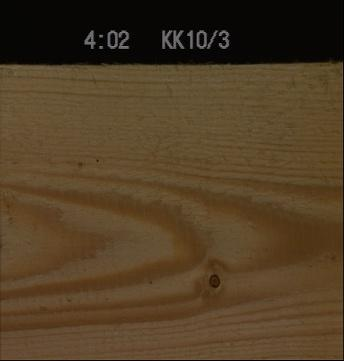dry_knot: (207, 271, 220, 288)
